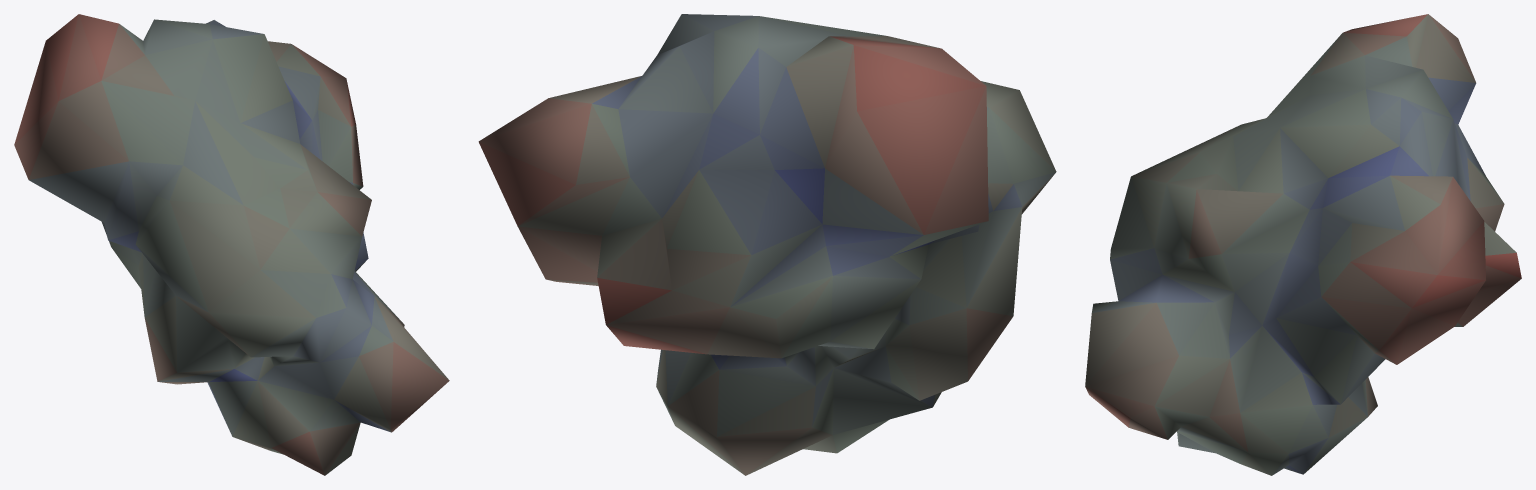
The model's file is rock_clump_01_COL.fbx.
3 renders of one model, left to right at view 1: azimuth 30°, elevation 25°; view 2: azimuth 150°, elevation 25°; view 3: azimuth 270°, elevation 25°, orthographic. The views are drawn at different scales.
Parts seen in each view (by area): view 1: Rock_Clump_01_COL; view 2: Rock_Clump_01_COL; view 3: Rock_Clump_01_COL.
Boxes of the visible parts, bbox=[...] form: Rock_Clump_01_COL: bbox=[14, 14, 449, 475]; Rock_Clump_01_COL: bbox=[478, 14, 1056, 475]; Rock_Clump_01_COL: bbox=[1085, 14, 1521, 475].
Size of the model in its own units: 303 by 334 by 337.
